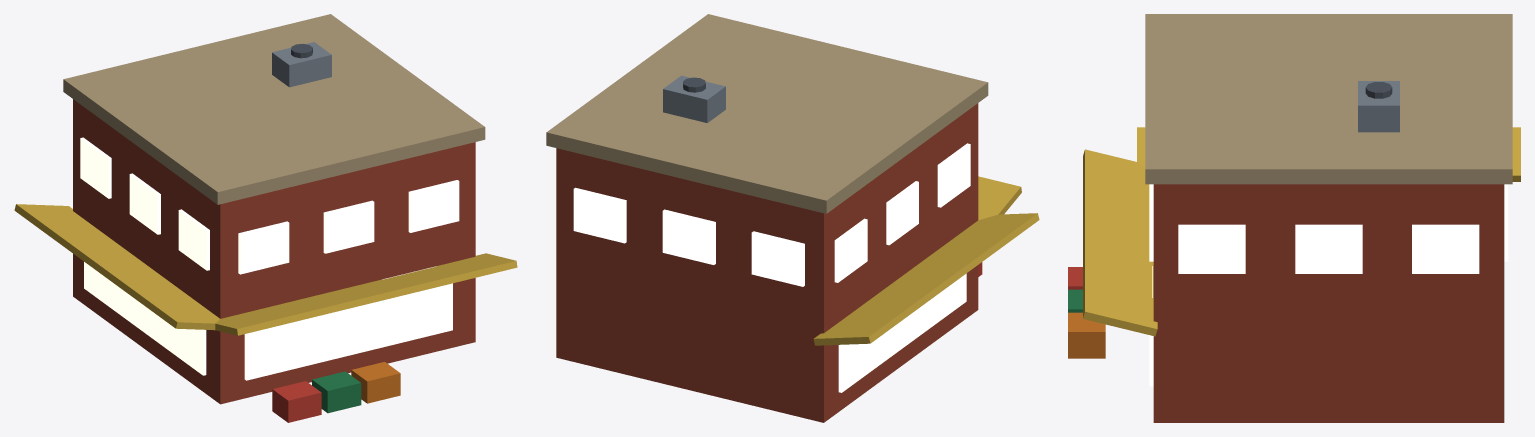
The model's file is generic-bodega.glb.
The picture shows the model from 3 angles, left to right: view 1: azimuth 30°, elevation 25°; view 2: azimuth 150°, elevation 25°; view 3: azimuth 270°, elevation 25°; orthographic projection. The views are drawn at different scales.
Parts seen in each view (by area): view 1: cw_paint, cw_glow; view 2: cw_paint, cw_glow; view 3: cw_paint, cw_glow.
Boxes of the visible parts, box(x1,y1,x2,y2) form: cw_paint: box(14, 14, 517, 422); cw_glow: box(80, 137, 459, 380); cw_paint: box(546, 14, 1039, 422); cw_glow: box(573, 143, 970, 392); cw_paint: box(1068, 14, 1520, 422); cw_glow: box(1149, 184, 1508, 386).
Size of the model in its own units: 5.25 by 3.83 by 5.43.
